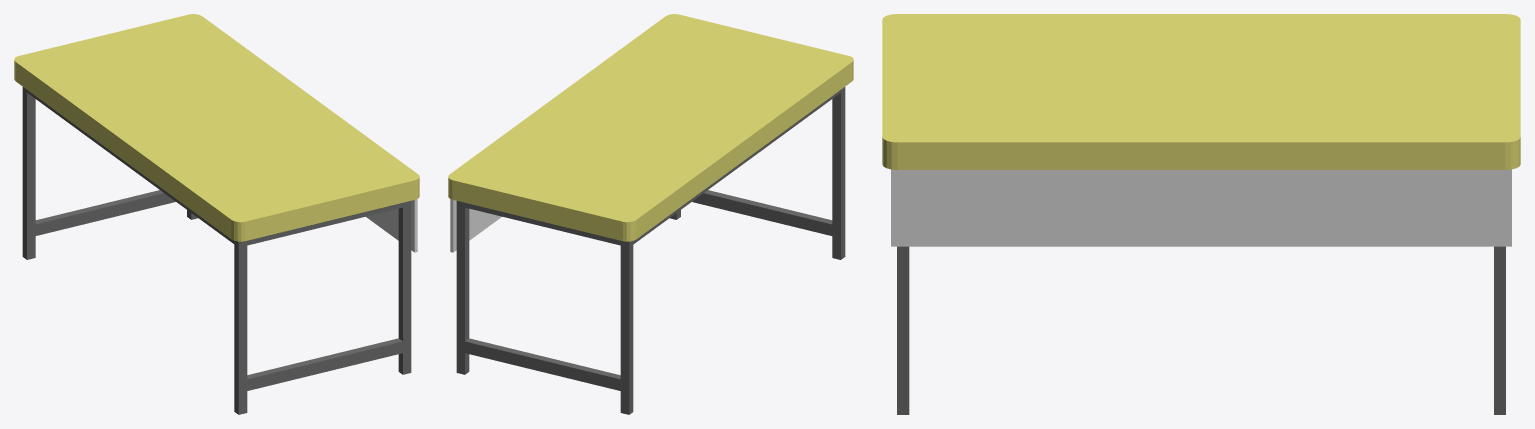
Rendered from meja.fbx.
3 renders of one model, left to right at view 1: azimuth 30°, elevation 25°; view 2: azimuth 150°, elevation 25°; view 3: azimuth 270°, elevation 25°, orthographic. The views are drawn at different scales.
Parts seen in each view (by area): view 1: Alas.001; view 2: Alas.001; view 3: Alas.001.
Part boxes in pixels (x1=…): Alas.001: x1=14, y1=14, x2=419, y2=414; Alas.001: x1=448, y1=14, x2=853, y2=414; Alas.001: x1=882, y1=14, x2=1520, y2=414.
Bounding box in the file's own units: 200 × 201 × 420.
